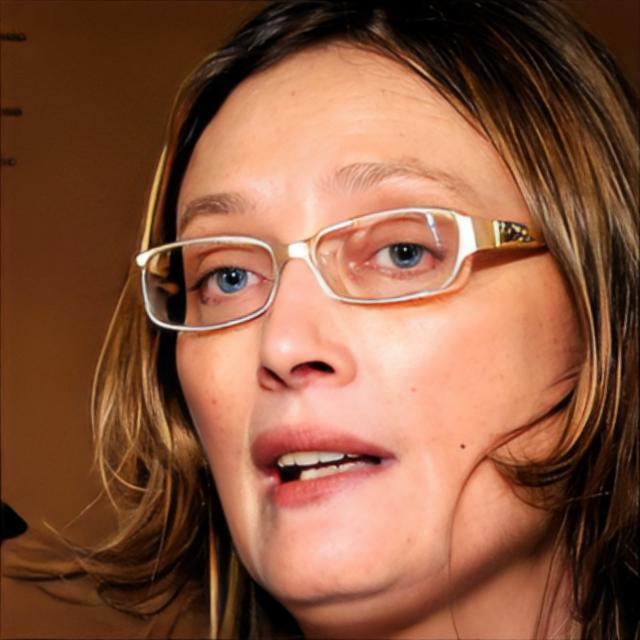surprise: (174, 39, 584, 606)
